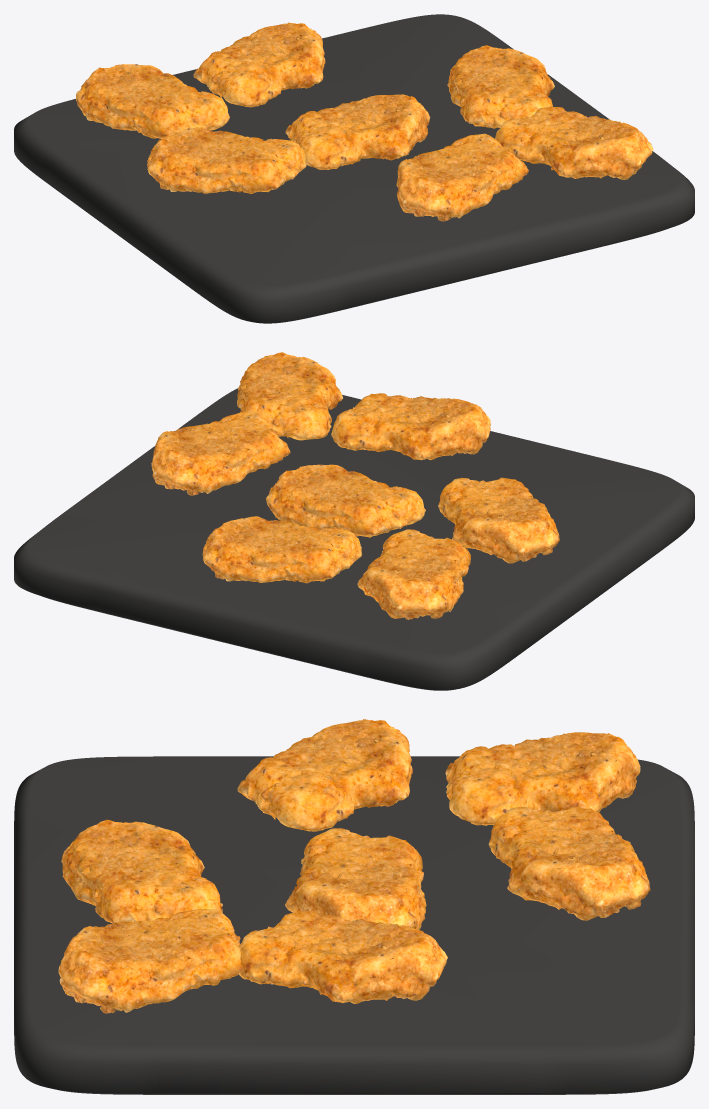
File: nuggets.glb
The picture shows the model from 3 angles, top to bottom: view 1: azimuth 30°, elevation 25°; view 2: azimuth 150°, elevation 25°; view 3: azimuth 270°, elevation 25°; orthographic projection. The views are drawn at different scales.
Visible parts, largest first — view 1: slate, serving (×6), dish; view 2: slate, serving (×6), dish; view 3: slate, serving (×6), dish.
Boxes of the visible parts, x1,y1,x2,y2 form: slate: (14,14,694,323); serving (×6): (76,22,653,221); dish: (285,94,430,169); slate: (14,388,694,690); serving (×6): (151,352,559,619); dish: (266,464,425,537); slate: (14,756,694,1094); serving (×6): (58,719,650,1013); dish: (285,828,426,929).
Bounding box in the file's own units: 0.1884 × 0.0322 × 0.1797.
Materials: 2 (1 with a texture image).
